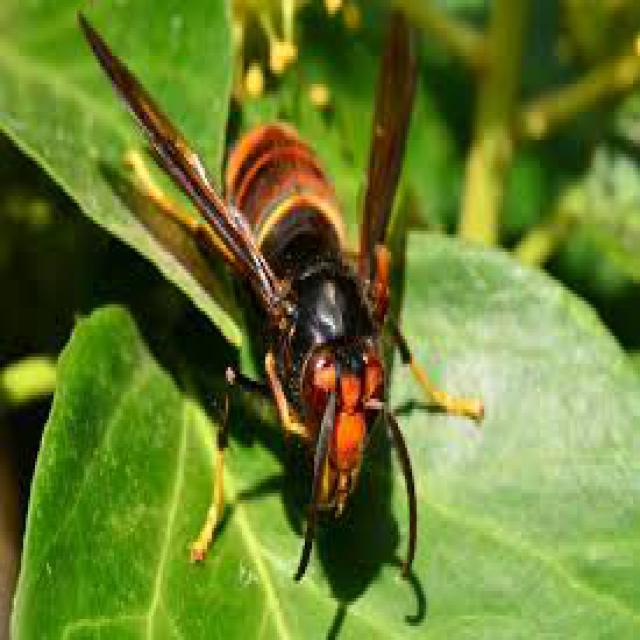Vespa Velutina: (69, 0, 490, 589)
